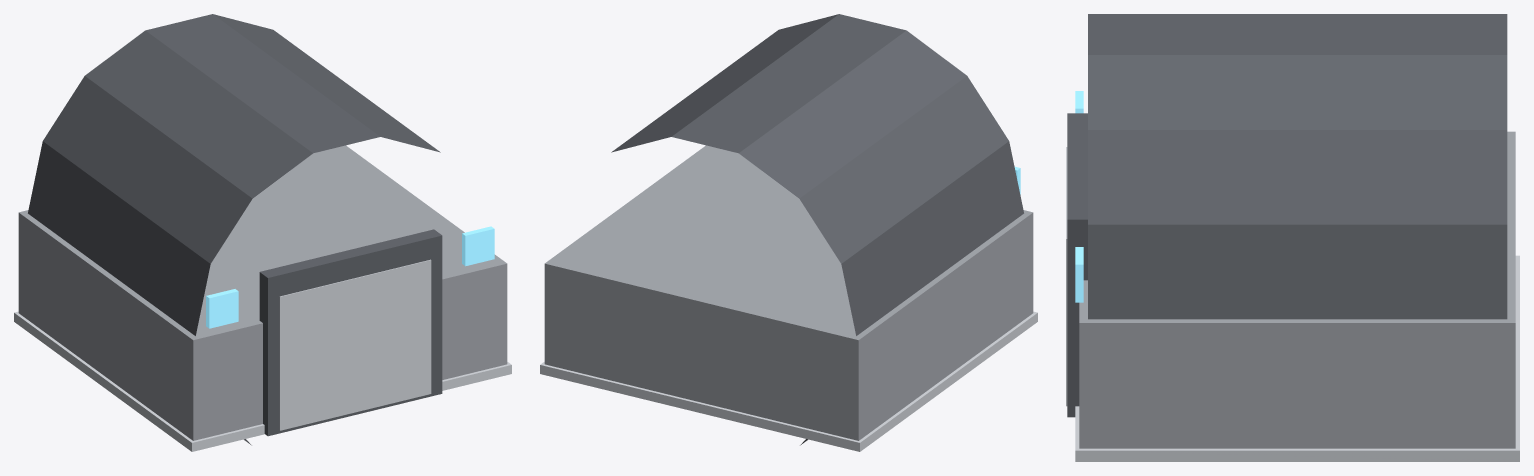
File: hangar.glb
3 renders of one model, left to right at view 1: azimuth 30°, elevation 25°; view 2: azimuth 150°, elevation 25°; view 3: azimuth 270°, elevation 25°, orthographic. The views are drawn at different scales.
Visible parts, largest first — view 1: hangar; view 2: hangar; view 3: hangar.
Boxes of the visible parts, x1,y1,x2,y2 form: hangar: [14, 14, 511, 451]; hangar: [540, 14, 1037, 451]; hangar: [1066, 14, 1519, 461].
Size of the model in its own units: 5.5 by 5.07 by 5.41.
